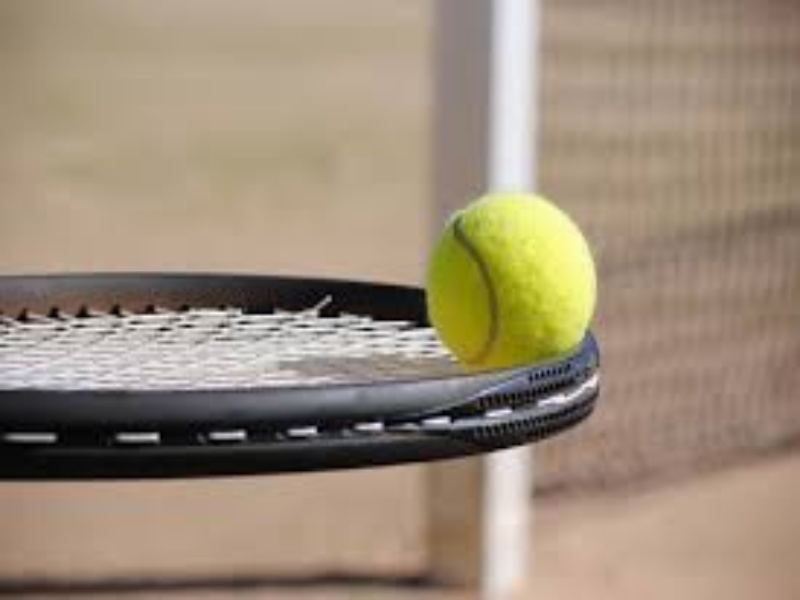tennis ball: (411, 183, 611, 377)
